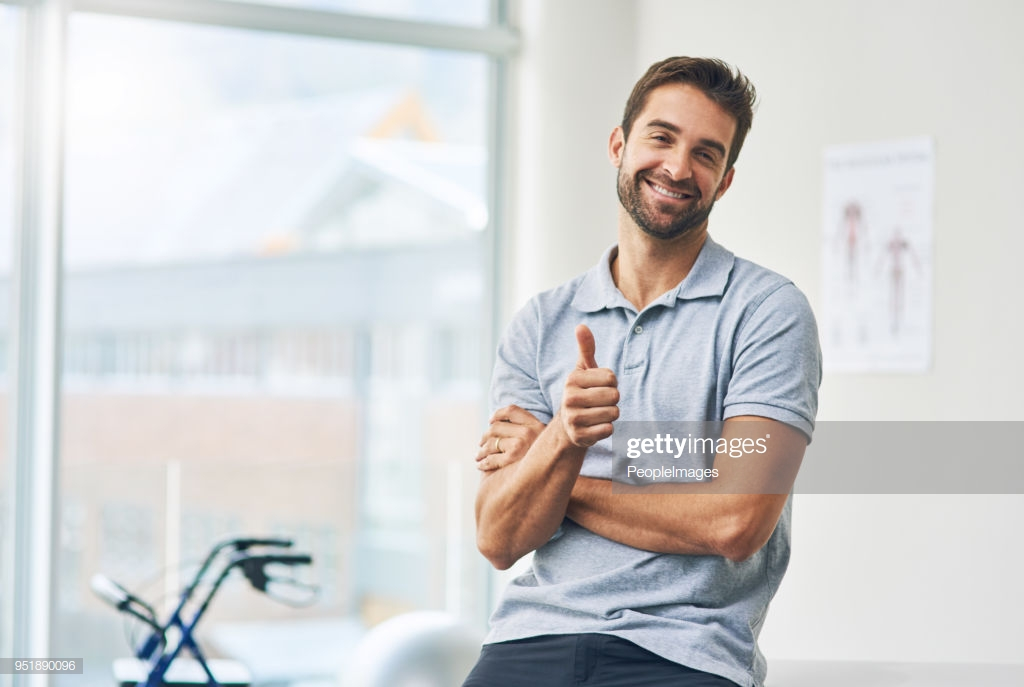thumbsup: (562, 324, 619, 441)
